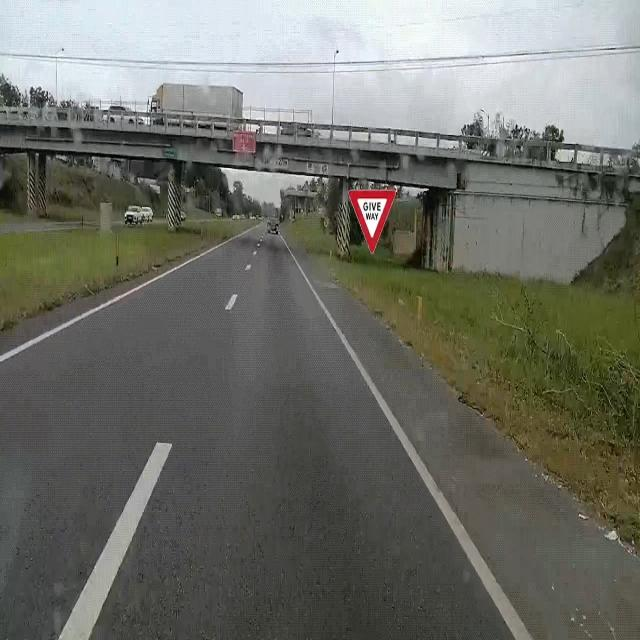Ceder-le-Passage: (344, 182, 402, 262)
